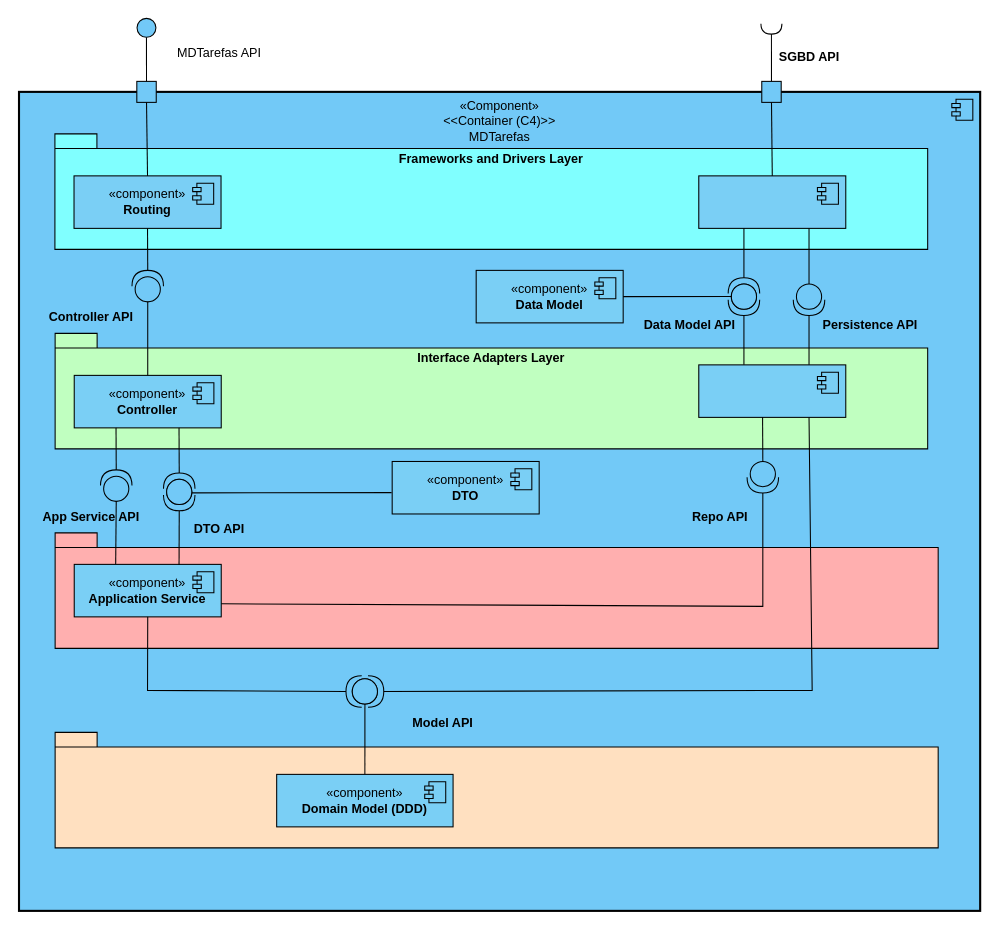
This 1000x930 diagram has some shape labels left out. The box of each missing label's shape, as (x1, y1, x2, y2) in pixels:
Application Business Rules: (54, 532, 938, 648)
Enterprise Business Rules: (54, 731, 938, 848)
«component» Persistence: (698, 175, 846, 228)
«component» Repository: (698, 364, 846, 417)
